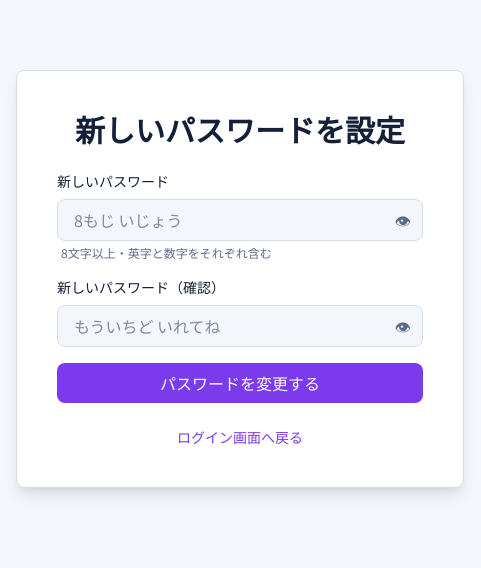
Test: PasswordResetPage › パスワードが一致しない場合はAPIを呼ばずエラーを表示する
The image size is (481, 568).
Type "newpass123" into the password field with id "reset-password".
click(240, 220); type("newpass123")  # box x1=57 y1=199 x2=423 y2=241
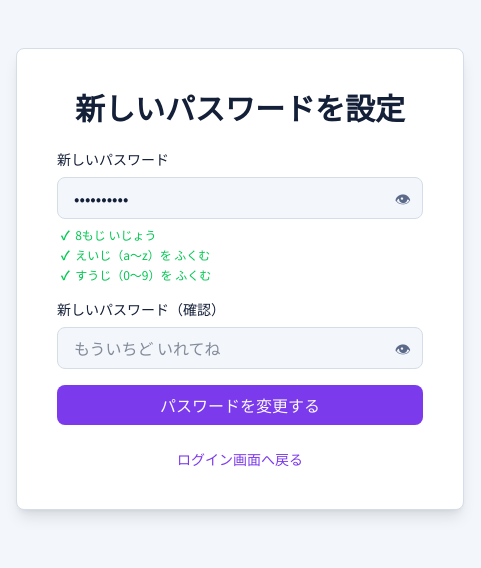
Type "different123" into the password field with id "reset-password-confirmation".
click(240, 348); type("different123")  # box x1=57 y1=327 x2=423 y2=369
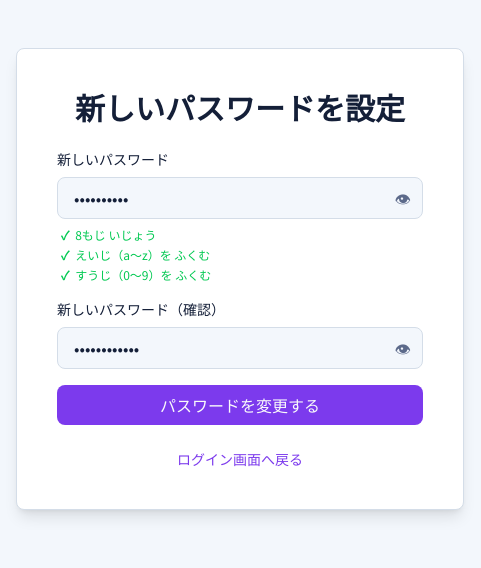
Click the button "パスワードを変更する".
click(240, 405)  # box x1=57 y1=385 x2=423 y2=425
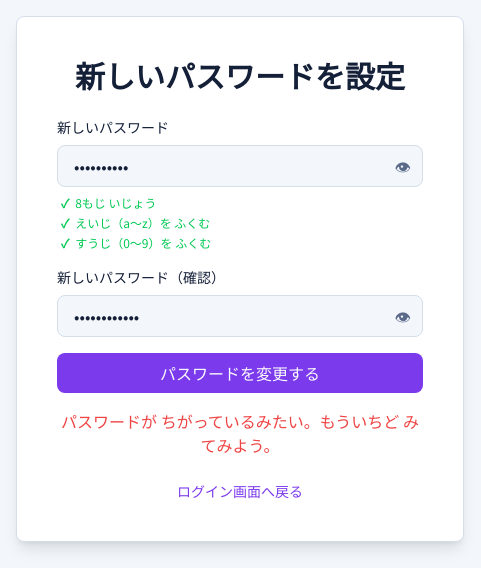
Result: the text "パスワードが ちがっているみたい。もういちど みてみよう。" is shown at x1=57 y1=409 x2=423 y2=457
